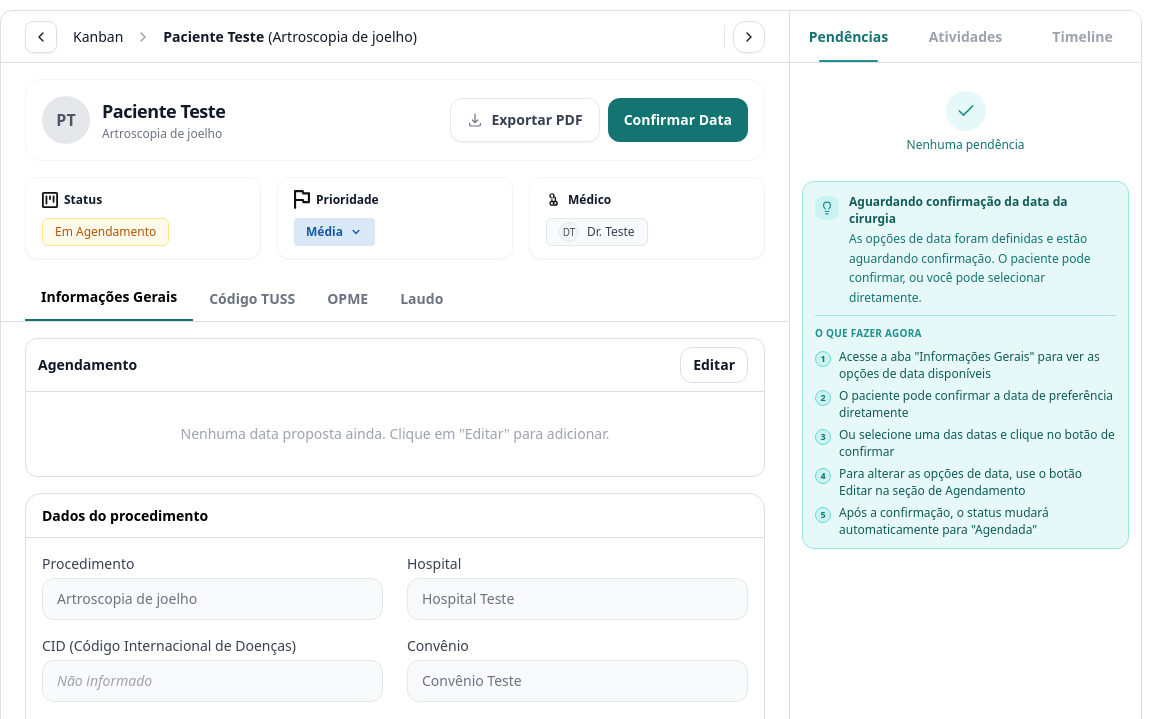
Scenario: Detalhe da Solicitação — notificação após "Definir Data" › convida a notificar o paciente ao confirmar a data sem datas propostas
Click the button "Confirmar Data" at (678, 120), box x1=608 y1=98 x2=748 y2=142
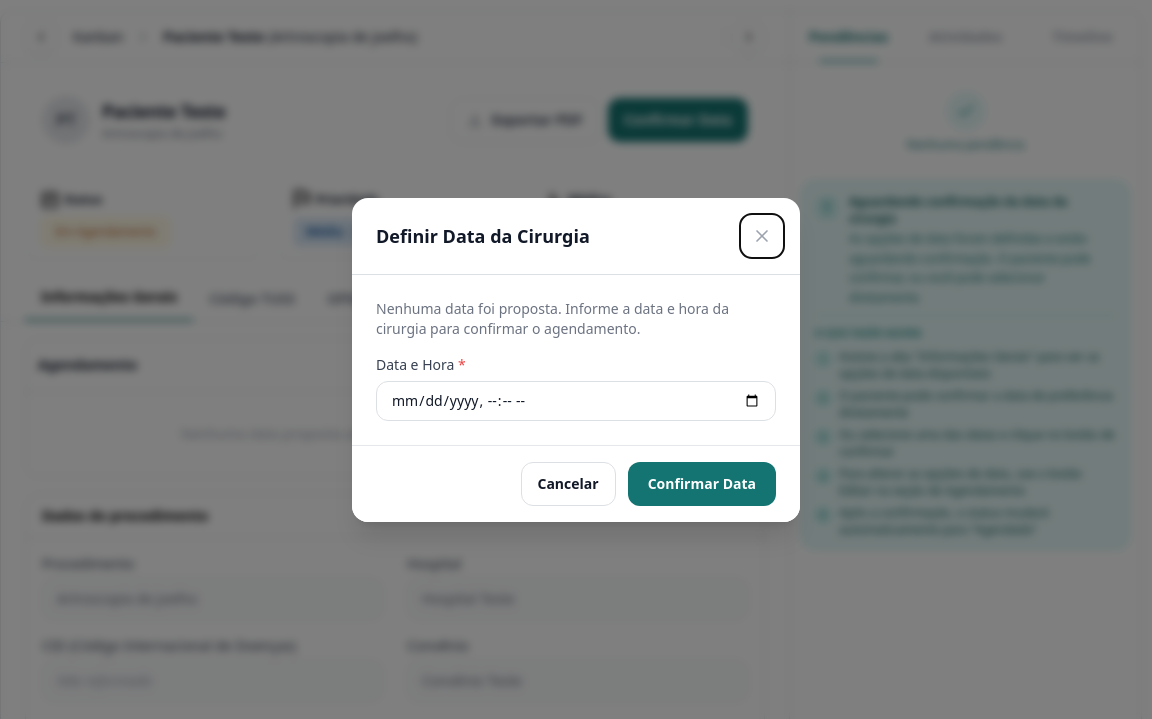
Expected: the heading "Definir Data da Cirurgia" is shown, x1=376 y1=222 x2=590 y2=250
Type "2026-12-01T08:00" into the field labelled "Data e Hora *" at (576, 401), box x1=376 y1=381 x2=776 y2=421
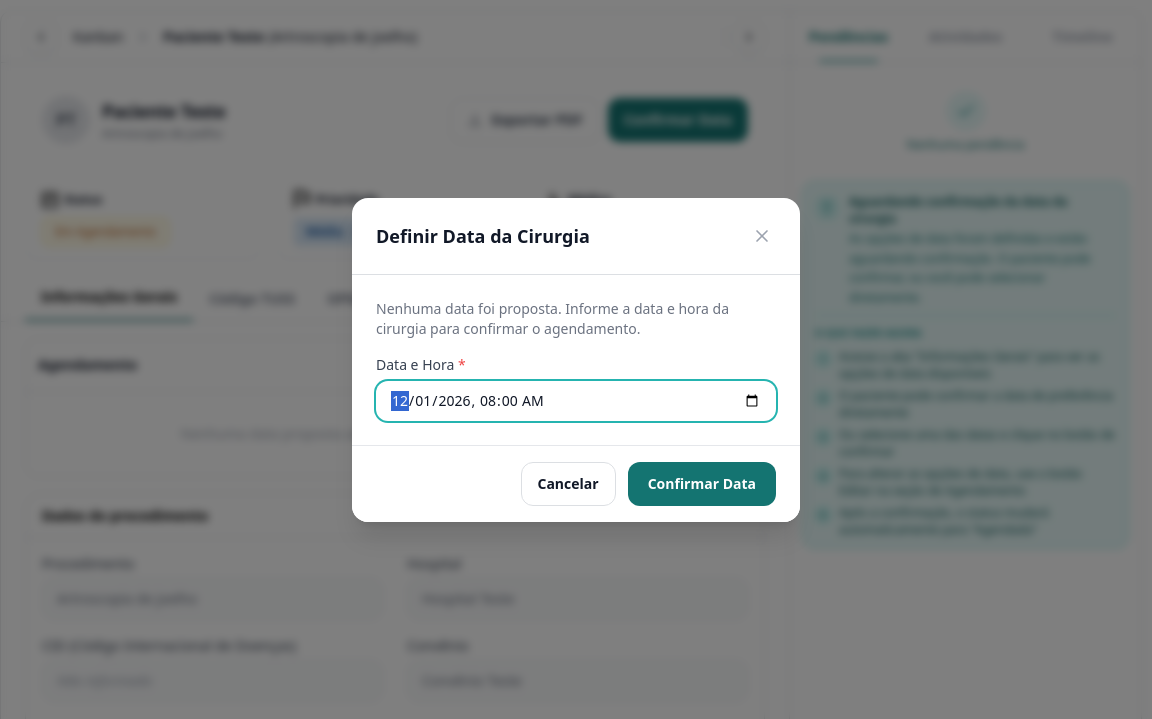
Click the button "Confirmar Data" at (702, 484), box x1=628 y1=462 x2=776 y2=506
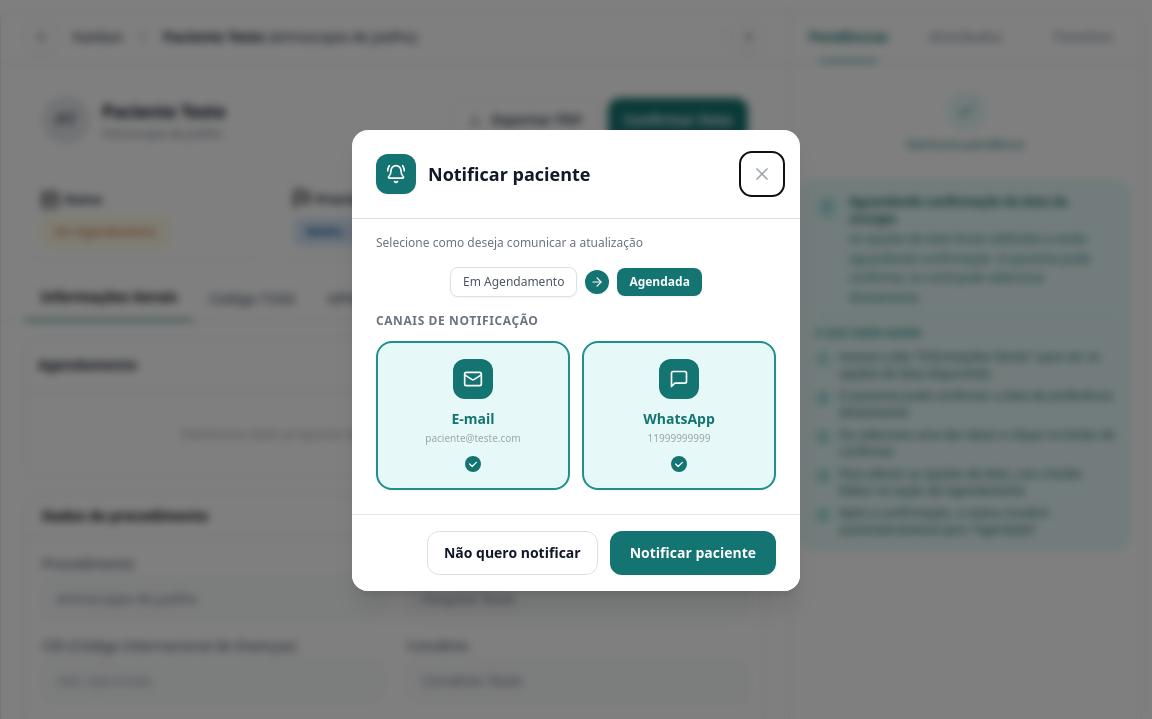
Expected: the heading "Notificar paciente" is shown, x1=376 y1=154 x2=590 y2=194
